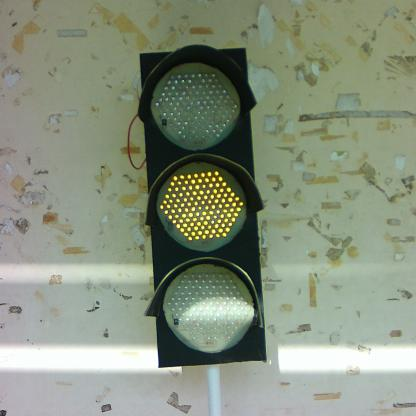yellow: (137, 48, 267, 365)
